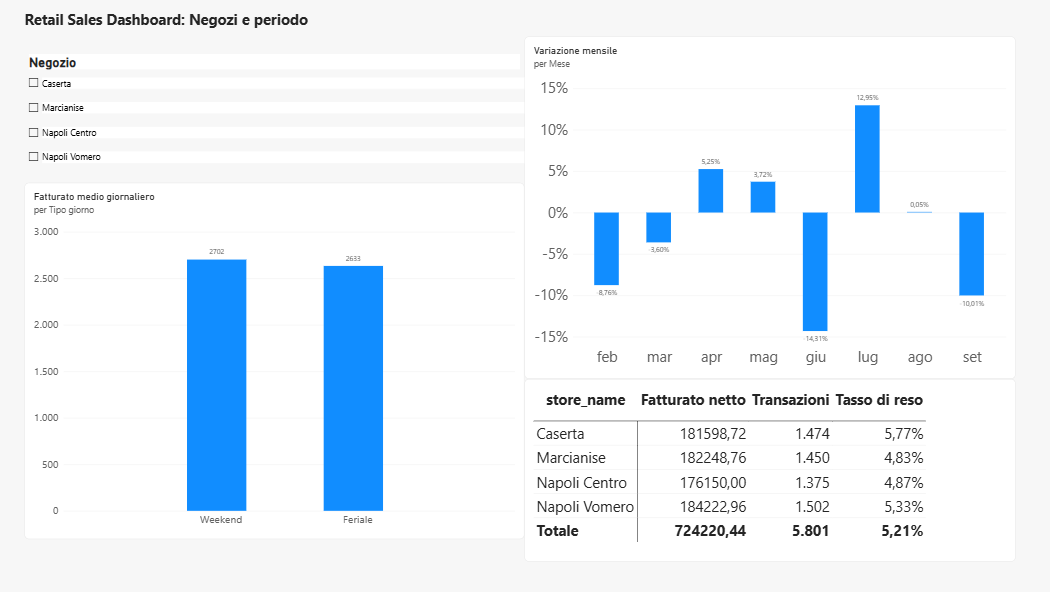

This screenshot's page, from the dashboard's own definition file:
{"tool":"powerbi","page":{"name":"Negozi per periodo","canvas":[1920,1080],"ordinal":2},"visuals":[{"type":"pivotTable","fields":{"Rows":["dim_store.store_name"],"Values":["fact_sales.Fatturato netto","fact_sales.Transazioni","fact_sales.Tasso di reso"]},"box":[959.1,690.9,893.2,331.8],"z":0},{"type":"columnChart","fields":{"Category":["Calendario.Tipo giorno"],"Y":["fact_sales.Fatturato medio giornaliero"]},"box":[50,334.1,909.1,647.7],"z":1000},{"type":"columnChart","fields":{"Category":["Calendario.Mese"],"Y":["fact_sales.Variazione mensile"]},"box":[959.1,68.2,893.2,622.7],"z":2000},{"type":"textbox","box":[100,100,300,300],"z":4000},{"type":"textbox","box":[50.1,19.1,799,50.1],"z":5000},{"type":"slicer","fields":{"Values":["dim_store.store_name"]},"box":[50,100,909.1,234.1],"z":5001}]}

Visuals, with their boxes in screenshot pixels (x1, y1, x2, y2), scaled from the page's 1920x1080 canvas onto the 1050x592 screenshot:
pivotTable - dim_store.store_name x fact_sales.Fatturato netto: bbox=[525, 379, 1013, 561]
columnChart - Calendario.Tipo giorno x fact_sales.Fatturato medio giornaliero: bbox=[27, 183, 525, 538]
columnChart - Calendario.Mese x fact_sales.Variazione mensile: bbox=[525, 37, 1013, 379]
textbox: bbox=[55, 55, 219, 219]
textbox: bbox=[27, 10, 464, 38]
slicer - dim_store.store_name: bbox=[27, 55, 525, 183]
